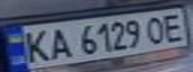1: (93, 20, 115, 53)
2: (109, 18, 130, 52)
6: (75, 21, 100, 56)
9: (124, 17, 145, 48)
A: (42, 25, 75, 61)
E: (157, 10, 190, 43)
K: (18, 26, 54, 64)
O: (142, 14, 172, 45)
